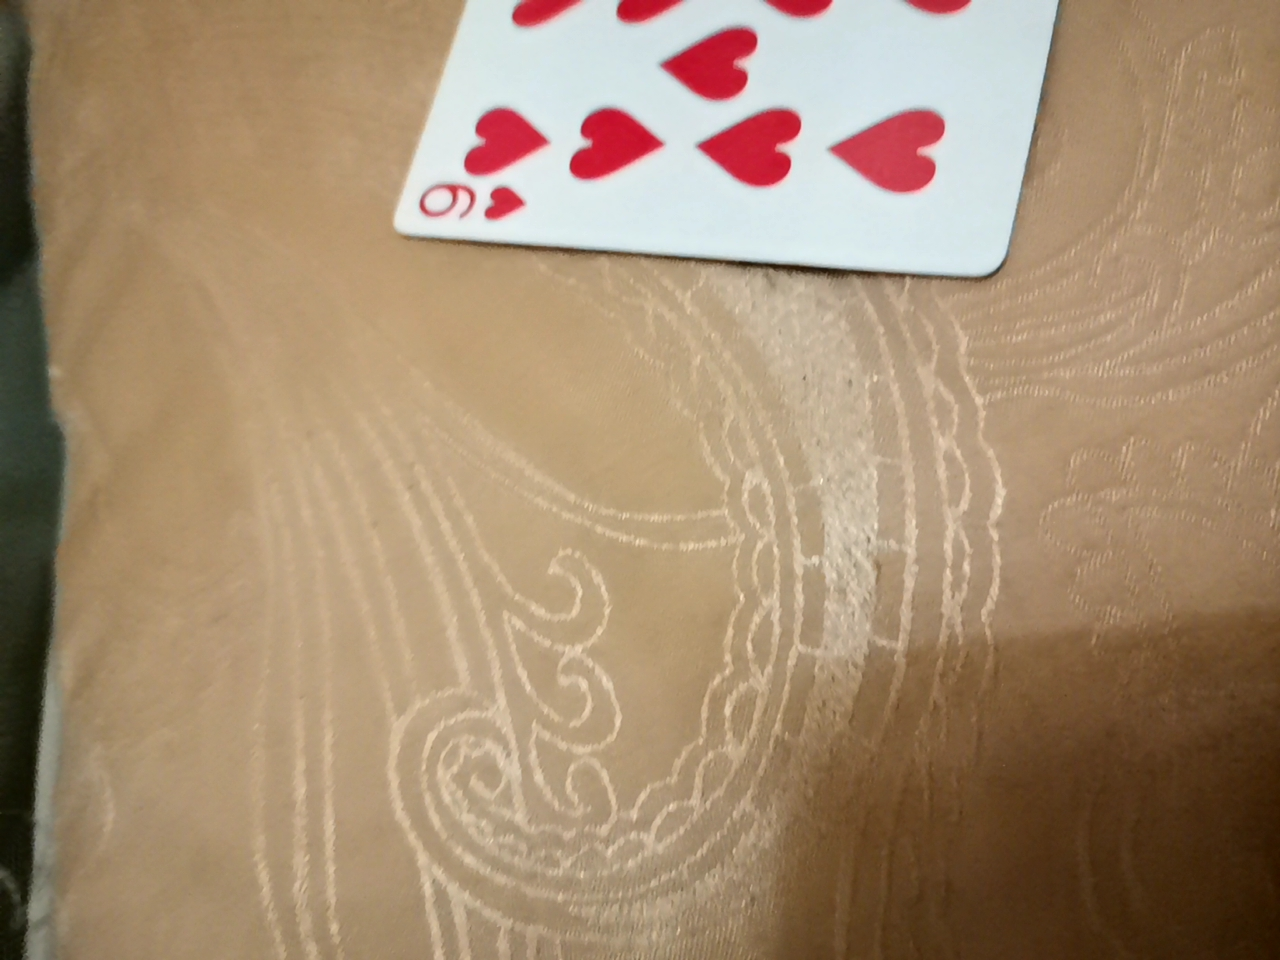hx 9: (409, 0, 1089, 306)
